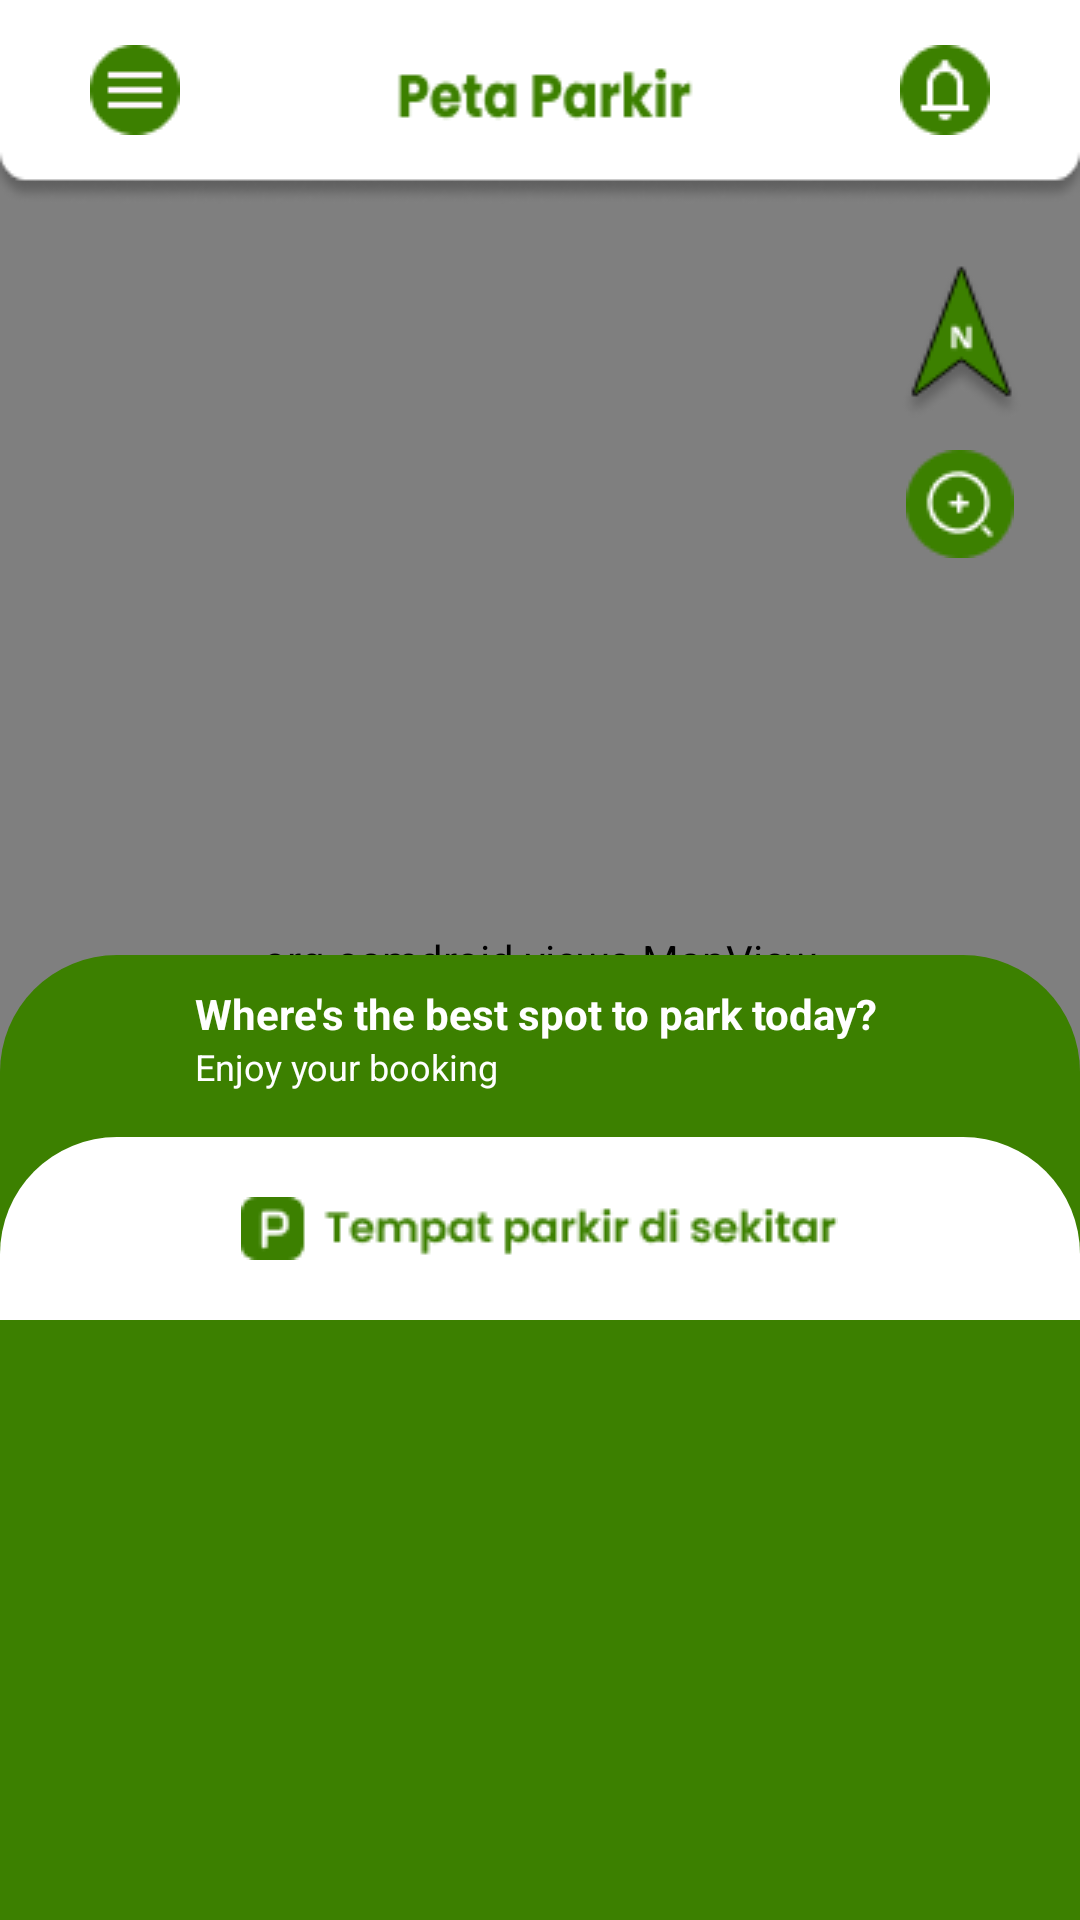

Point at icon controls on the screen. Image size 1080px×1920px, points as [x,y].
loncengparkir: [945,90]
menuparkir: [135,90]
navigasi: [961,331]
zoom in: [960,504]
